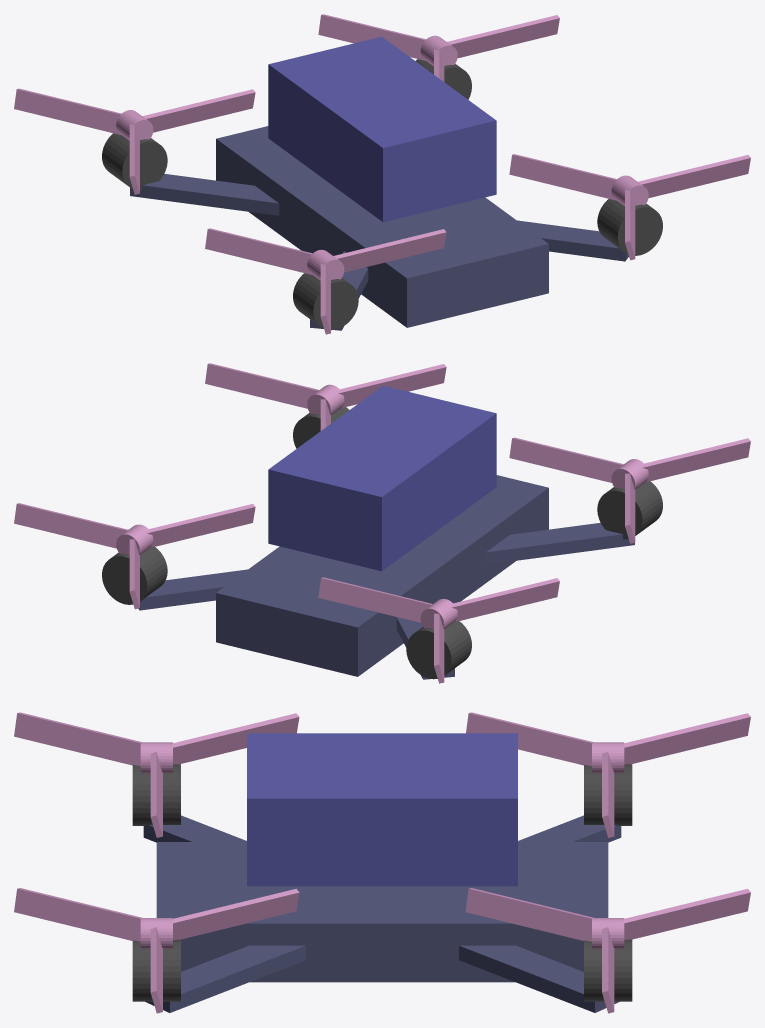
Rendered from Air 65 Freestyle.glb.
3 renders of one model, top to bottom at view 1: azimuth 30°, elevation 25°; view 2: azimuth 150°, elevation 25°; view 3: azimuth 270°, elevation 25°, orthographic. The views are drawn at different scales.
Visible parts, largest first — view 1: battery, frame_body, prop_3, prop_0, prop_2, prop_1, arm_3, motor_2, motor_0, motor_3, arm_0, motor_1 (+1 smaller); view 2: battery, frame_body, prop_2, prop_3, prop_1, prop_0, arm_2, motor_3, motor_1, motor_2, arm_1, motor_0; view 3: battery, frame_body, prop_1, prop_0, prop_2, prop_3, arm_1, arm_0, motor_1, motor_0, motor_3, motor_2 (+2 smaller).
Boxes of the visible parts, x1,y1,x2,y2 form: battery: (268, 36, 496, 222); frame_body: (216, 126, 548, 327); prop_3: (14, 88, 255, 194); prop_0: (509, 154, 750, 260); prop_2: (205, 228, 446, 334); prop_1: (318, 14, 559, 81); arm_3: (130, 173, 279, 215); motor_2: (293, 273, 358, 330); motor_0: (597, 199, 662, 255); motor_3: (102, 133, 167, 190); arm_0: (517, 220, 628, 261); motor_1: (415, 59, 471, 99); battery: (268, 385, 496, 571); frame_body: (216, 475, 548, 676); prop_2: (509, 437, 750, 543); prop_3: (318, 577, 559, 683); prop_1: (14, 503, 255, 609); prop_0: (205, 363, 446, 430); arm_2: (485, 522, 634, 564); motor_3: (406, 621, 471, 679); motor_1: (102, 547, 167, 604); motor_2: (597, 481, 662, 539); arm_1: (138, 569, 247, 610); motor_0: (293, 407, 349, 448); battery: (247, 733, 517, 886); frame_body: (156, 842, 608, 982); prop_1: (465, 888, 750, 1013); prop_0: (14, 888, 299, 1013); prop_2: (14, 712, 299, 837); prop_3: (466, 712, 750, 837); arm_1: (459, 945, 619, 1012); arm_0: (145, 945, 305, 1012); motor_1: (584, 939, 632, 1001); motor_0: (132, 939, 180, 1001); motor_3: (584, 764, 632, 825); motor_2: (132, 764, 180, 825).
Bounding box in the file's own units: 0.2055 × 0.06 × 0.2285.
